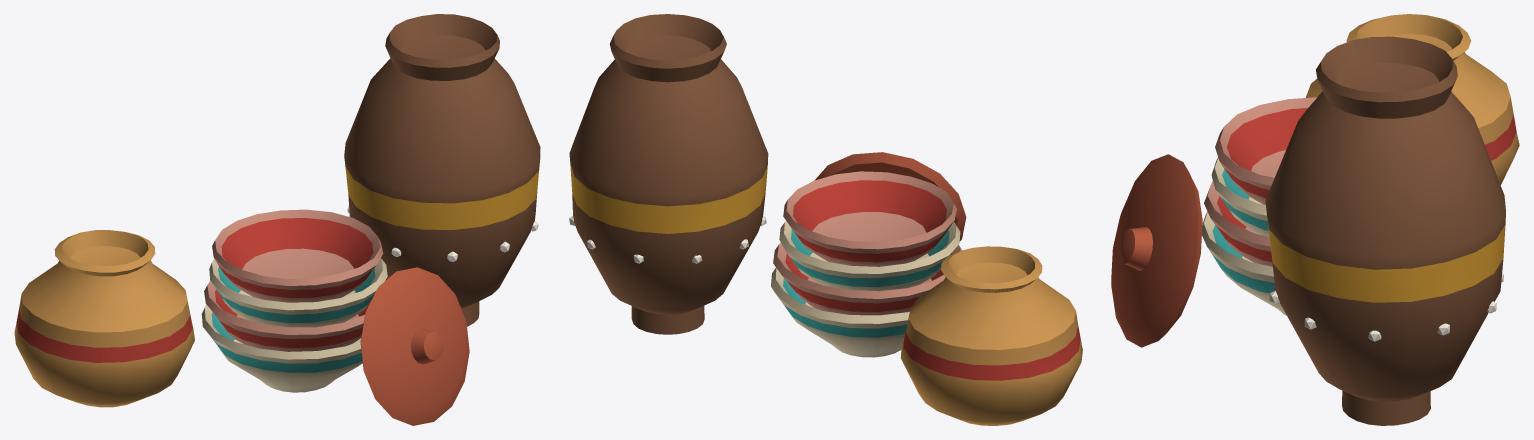
The model's file is deco_pot_cluster_stacked.fbx.
3 views of the same model, side by side, from view 1: azimuth 30°, elevation 25°; view 2: azimuth 150°, elevation 25°; view 3: azimuth 270°, elevation 25° (orthographic). The views are drawn at different scales.
Parts seen in each view (by area): view 1: PotCluster_Stacked_PotUrn, PotCluster_Stacked_BowlStack, PotCluster_Stacked_PotRound, PotCluster_Stacked_LeaningLid; view 2: PotCluster_Stacked_PotUrn, PotCluster_Stacked_BowlStack, PotCluster_Stacked_PotRound, PotCluster_Stacked_LeaningLid; view 3: PotCluster_Stacked_PotUrn, PotCluster_Stacked_LeaningLid, PotCluster_Stacked_BowlStack, PotCluster_Stacked_PotRound.
Part boxes in pixels (x1=…): PotCluster_Stacked_PotUrn: x1=344, y1=14, x2=540, y2=326; PotCluster_Stacked_BowlStack: x1=201, y1=209, x2=387, y2=392; PotCluster_Stacked_PotRound: x1=14, y1=230, x2=194, y2=407; PotCluster_Stacked_LeaningLid: x1=360, y1=267, x2=469, y2=425; PotCluster_Stacked_PotUrn: x1=569, y1=14, x2=768, y2=334; PotCluster_Stacked_BowlStack: x1=771, y1=171, x2=961, y2=357; PotCluster_Stacked_PotRound: x1=900, y1=246, x2=1082, y2=425; PotCluster_Stacked_LeaningLid: x1=814, y1=152, x2=966, y2=241; PotCluster_Stacked_PotUrn: x1=1265, y1=36, x2=1505, y2=425; PotCluster_Stacked_LeaningLid: x1=1111, y1=154, x2=1202, y2=347; PotCluster_Stacked_BowlStack: x1=1202, y1=97, x2=1316, y2=315; PotCluster_Stacked_PotRound: x1=1305, y1=14, x2=1519, y2=184.
Bounding box in the file's own units: 204 × 111 × 119.
